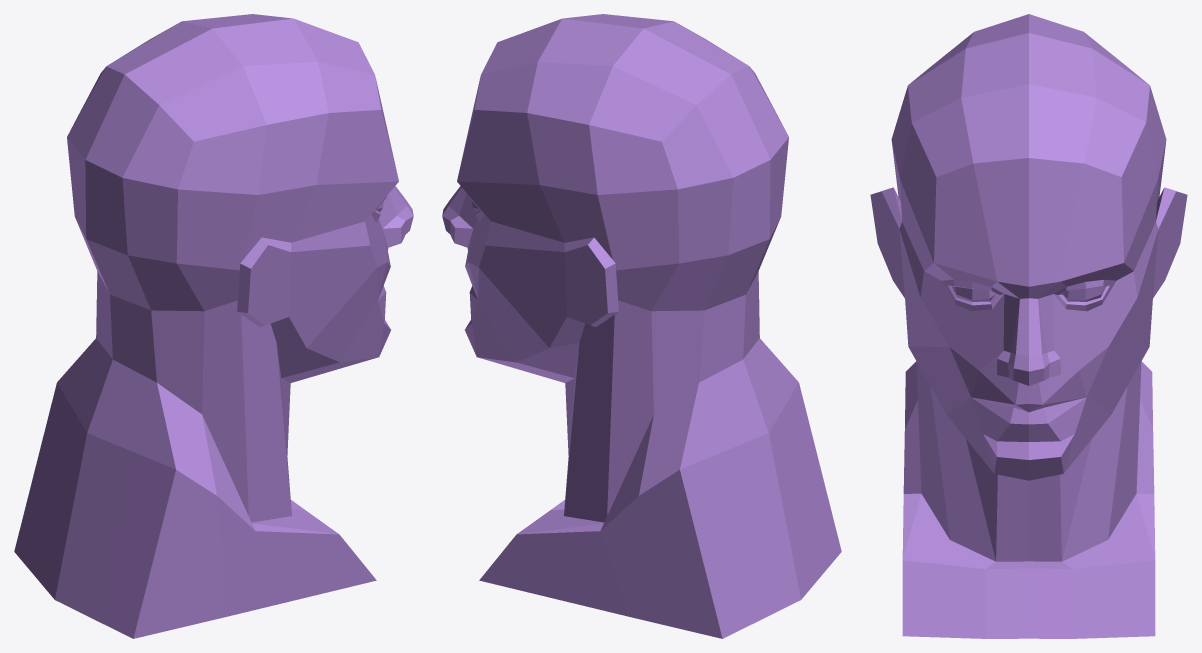
File: mask--model.glb
3 views of the same model, side by side, from view 1: azimuth 30°, elevation 25°; view 2: azimuth 150°, elevation 25°; view 3: azimuth 270°, elevation 25° (orthographic). The views are drawn at different scales.
Visible parts, largest first — view 1: Cube.001_0; view 2: Cube.001_0; view 3: Cube.001_0.
Part boxes in pixels (x1,y1,x2,y2): Cube.001_0: [14, 14, 413, 638]; Cube.001_0: [442, 14, 841, 638]; Cube.001_0: [870, 14, 1187, 638].
Size of the model in its own units: 2.48 by 3.53 by 1.84.
